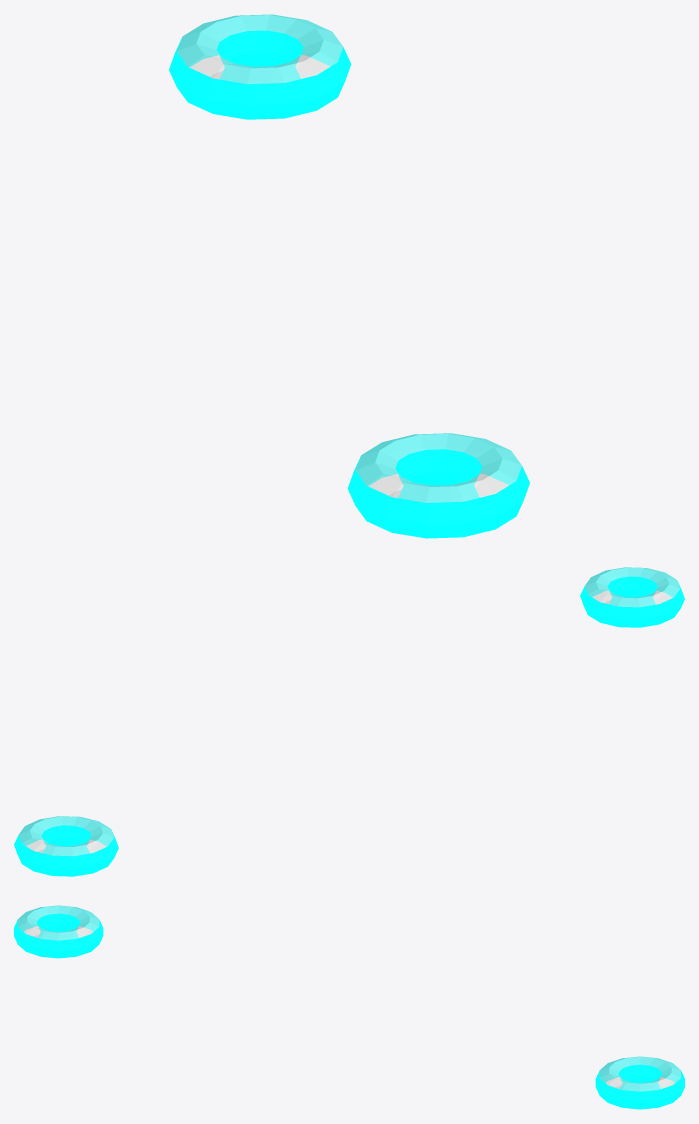
The model's file is (6)H XAirJump.fbx.
3 views of the same model, one above another, from view 1: azimuth 30°, elevation 25°; view 2: azimuth 150°, elevation 25°; view 3: azimuth 270°, elevation 25° (orthographic). The views are drawn at different scales.
Parts seen in each view (by area): view 1: AirJump.002, AirJump.003; view 2: AirJump.002, AirJump.003; view 3: AirJump.002, AirJump.003.
Boxes of the visible parts, x1,y1,x2,y2 form: AirJump.002: [347, 433, 529, 538]; AirJump.003: [169, 14, 351, 119]; AirJump.002: [580, 567, 684, 627]; AirJump.003: [14, 816, 118, 876]; AirJump.002: [14, 905, 103, 958]; AirJump.003: [595, 1056, 684, 1109].
Bounding box in the file's own units: 557 × 148 × 1153.
